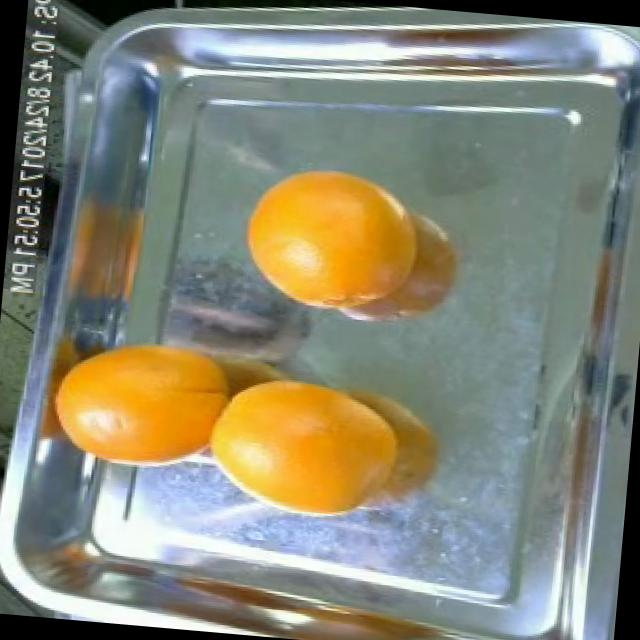Fruit: (229, 152, 430, 330), (32, 314, 250, 475), (42, 182, 152, 322)
